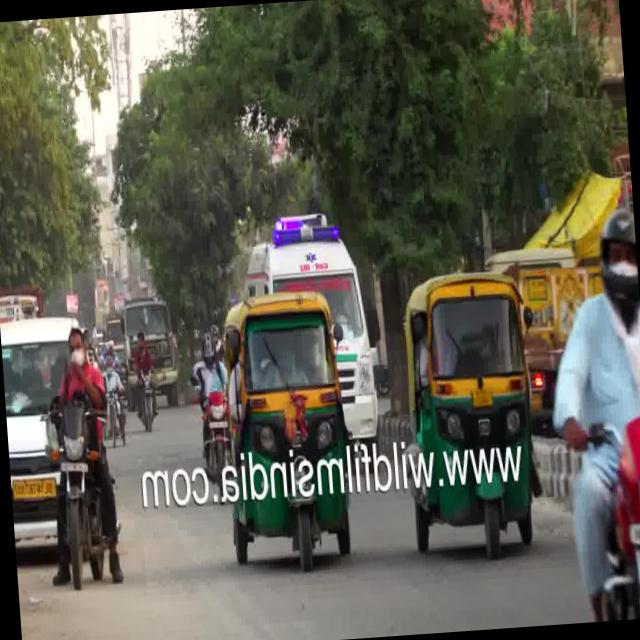ambulance: (228, 191, 366, 312)
